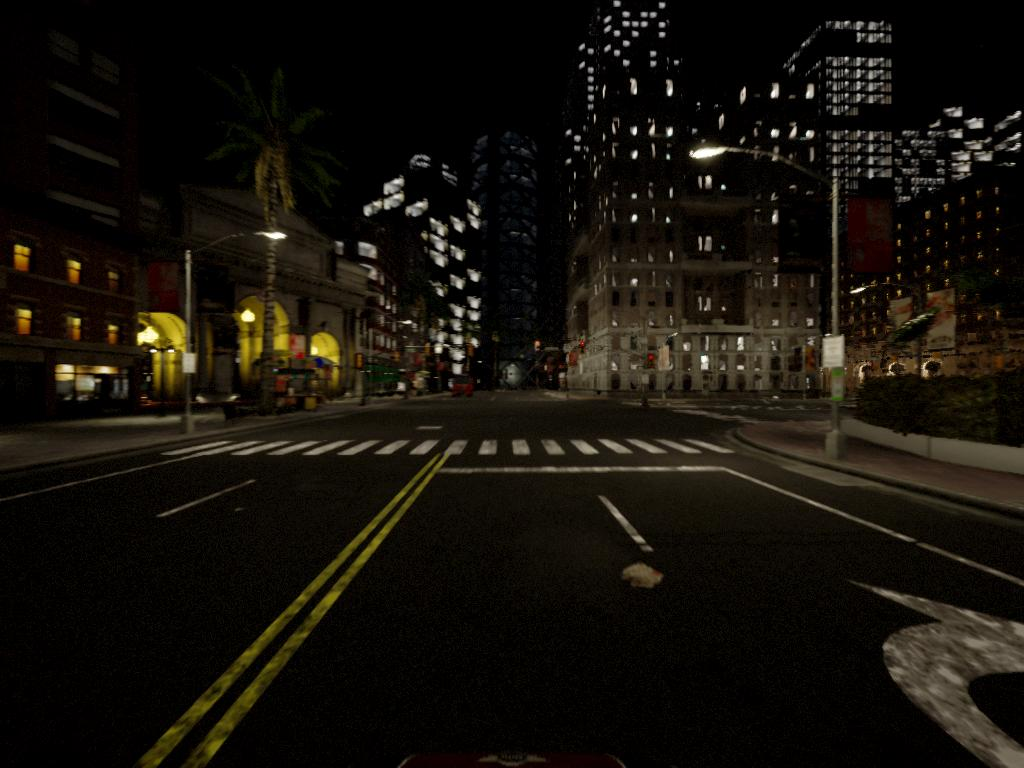traffic_light: (648, 356, 659, 369), (581, 341, 588, 355)
